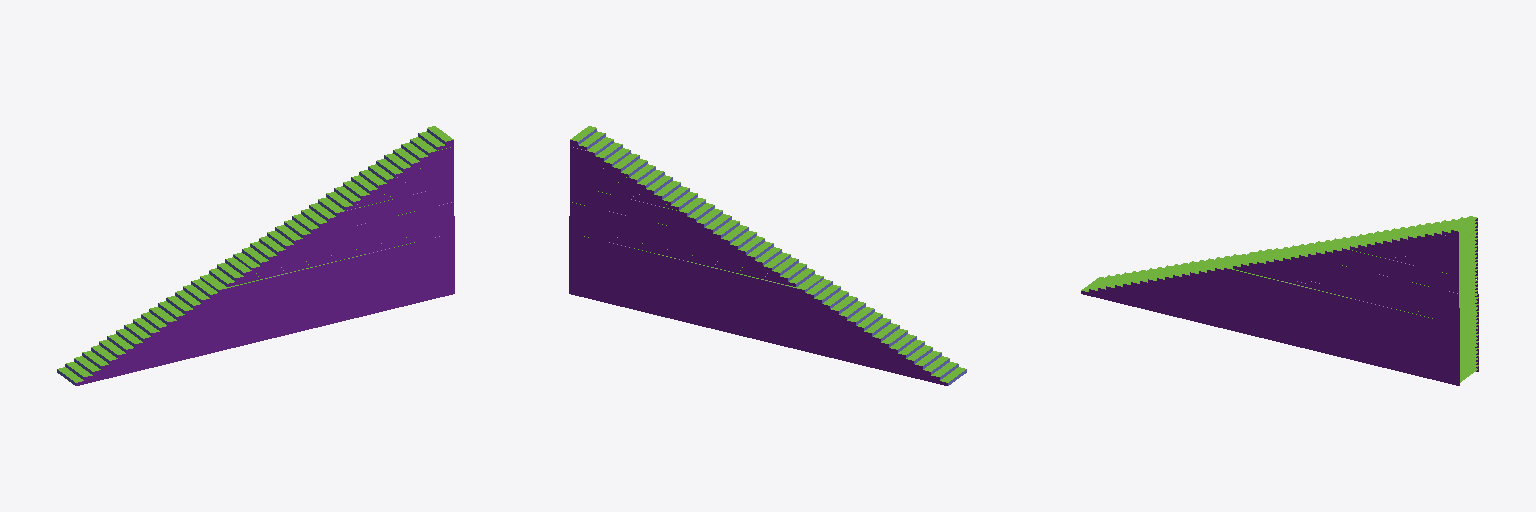
File: Stair_01.obj
The picture shows the model from 3 angles: view 1: azimuth 30°, elevation 25°; view 2: azimuth 150°, elevation 25°; view 3: azimuth 330°, elevation 25°; orthographic projection.
Visible parts, largest first — view 1: Stair_01.obj; view 2: Stair_01.obj; view 3: Stair_01.obj.
Part boxes in pixels (left/top/right/bottom): Stair_01.obj: left=57, top=126, right=454, bottom=385; Stair_01.obj: left=569, top=126, right=966, bottom=385; Stair_01.obj: left=1081, top=216, right=1478, bottom=385.
Size of the model in its own units: 2300 by 896 by 200.